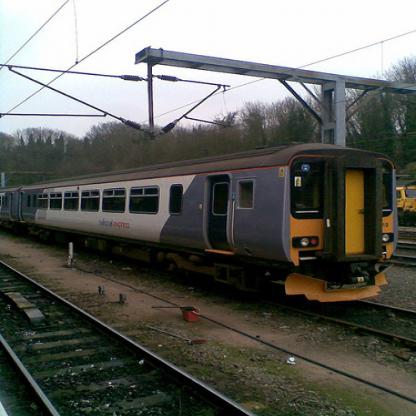train: (0, 143, 399, 303)
